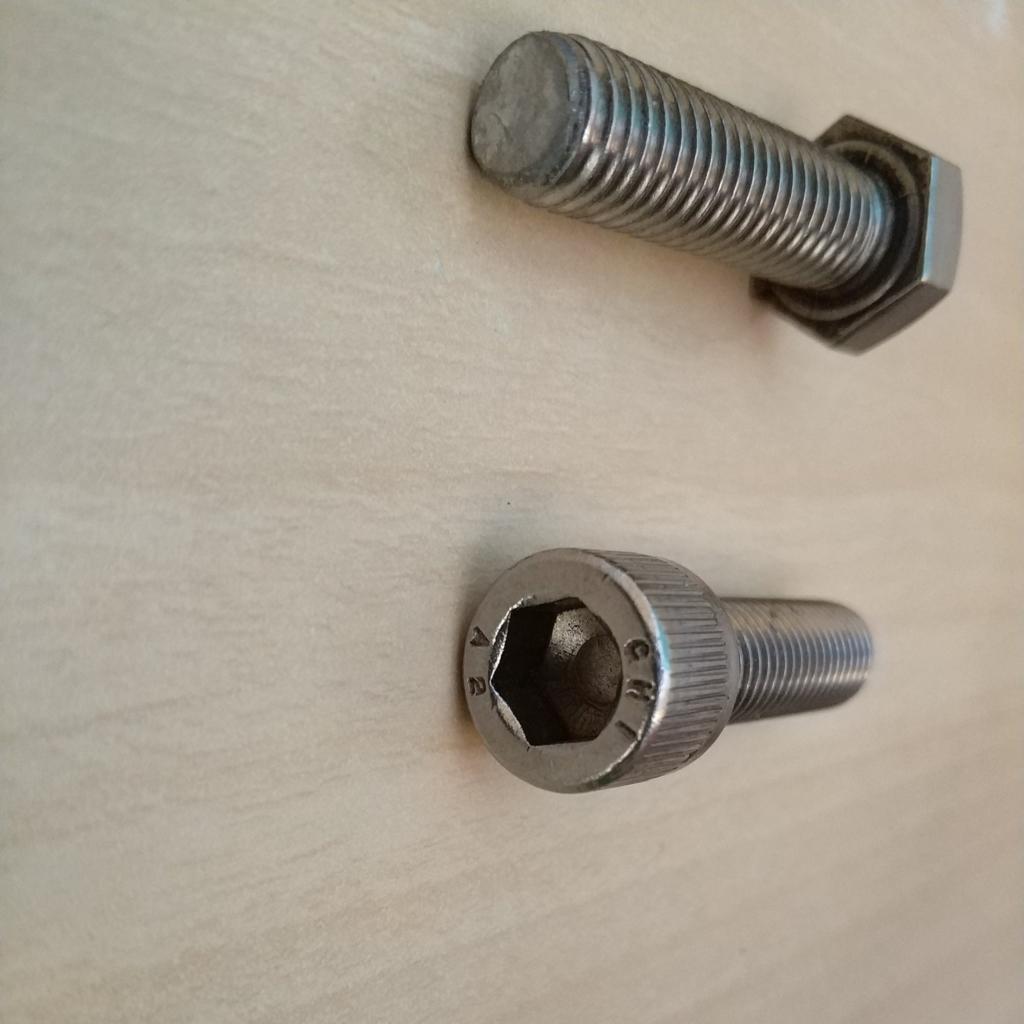screwtype1silver: (453, 531, 877, 805)
screwtype2silver: (441, 19, 977, 357)
